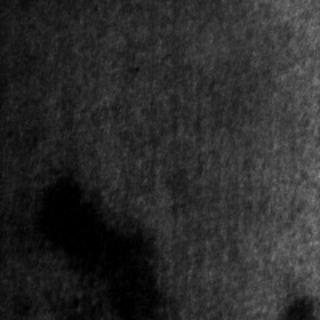patches: (34, 172, 160, 312)
